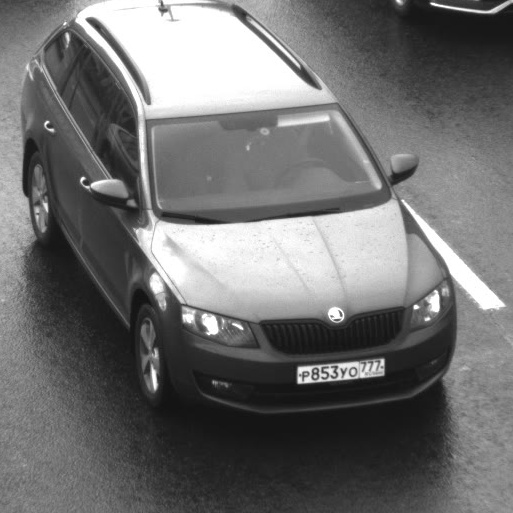plate: (283, 344, 396, 392)
